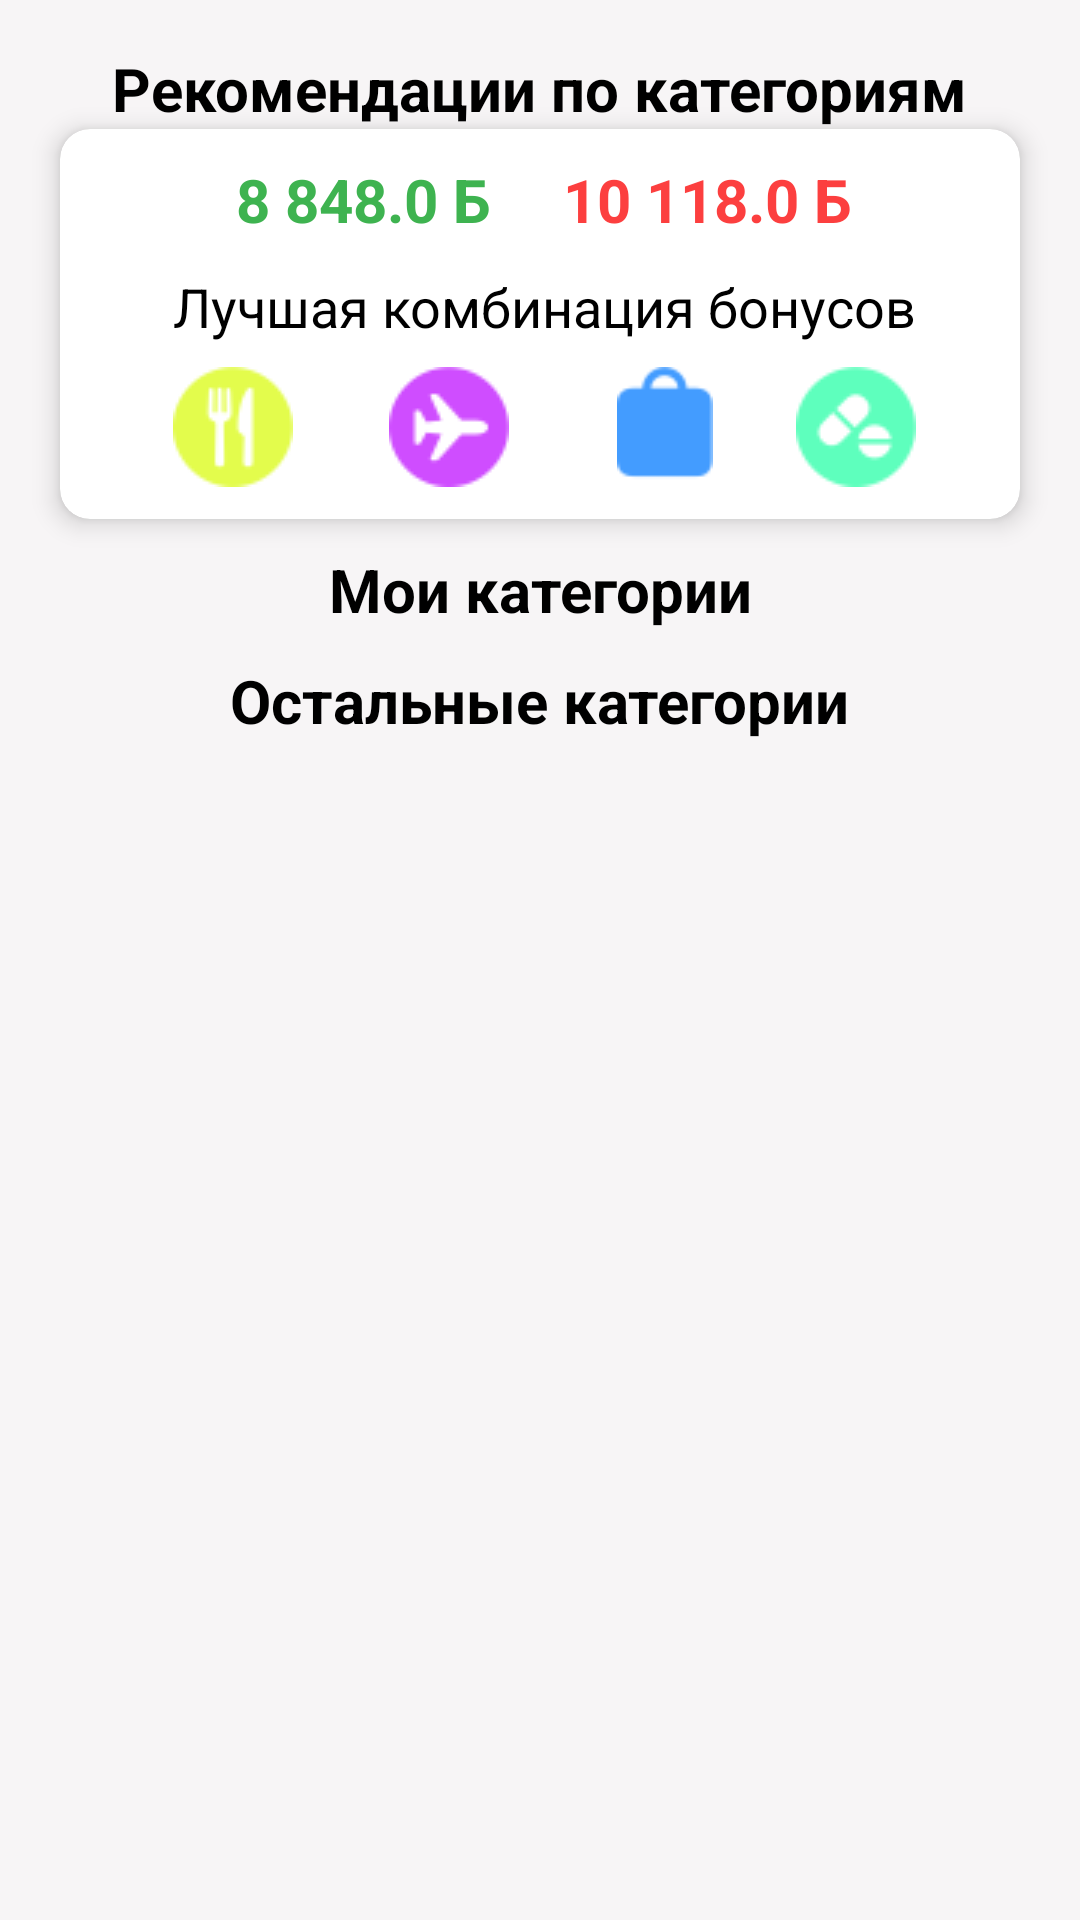

Locate icon controls on the screen. Image size 1080w x 1920h, boxes as [x1,y1,x2,y2].
clothes: [617,367,713,477]
food: [173,367,293,487]
health: [796,367,916,487]
travel: [389,367,509,487]
